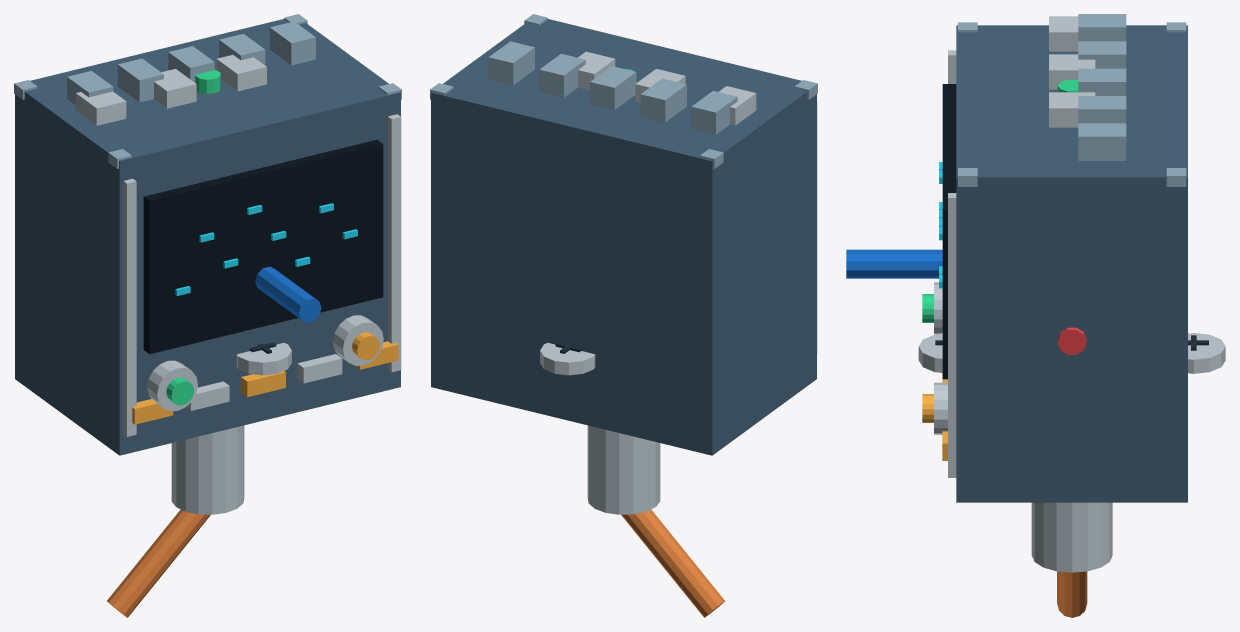
The model's file is 37_L74_SixAxisVibrationMeasurementSensor.fbx.
3 views of the same model, side by side, from view 1: azimuth 30°, elevation 25°; view 2: azimuth 150°, elevation 25°; view 3: azimuth 270°, elevation 25° (orthographic). The views are drawn at different scales.
Parts seen in each view (by area): view 1: SixAxisVibrationMeasurementSensor; view 2: SixAxisVibrationMeasurementSensor; view 3: SixAxisVibrationMeasurementSensor.
Boxes of the visible parts, <box> form: SixAxisVibrationMeasurementSensor: <box>14,14,401,617</box>; SixAxisVibrationMeasurementSensor: <box>430,14,817,617</box>; SixAxisVibrationMeasurementSensor: <box>846,14,1225,617</box>.
Size of the model in its own units: 63.36 by 112 by 65.5.
